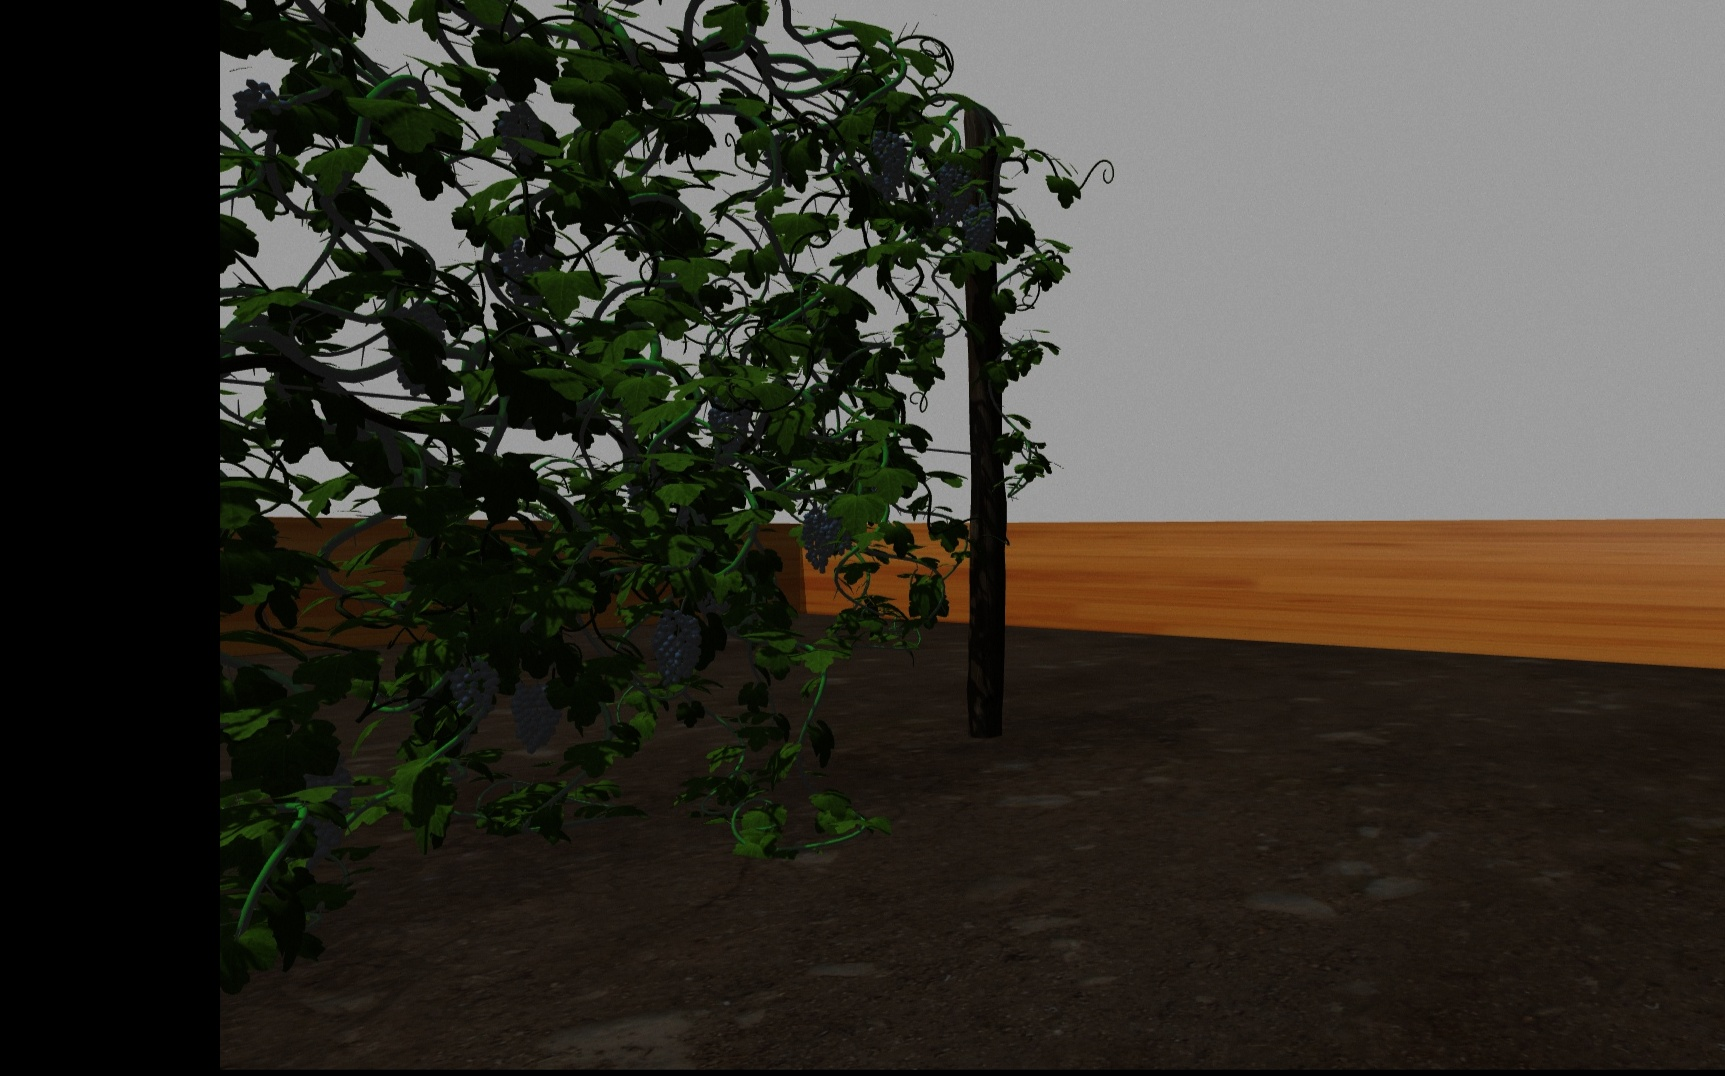grape: (292, 759, 354, 860), (388, 305, 450, 397), (498, 237, 563, 310), (509, 679, 565, 754), (654, 607, 703, 684), (496, 103, 546, 167), (230, 78, 286, 134), (451, 661, 499, 724), (708, 390, 755, 455), (871, 129, 908, 203), (936, 164, 974, 226), (802, 507, 832, 573), (964, 205, 996, 255), (830, 506, 859, 557)
